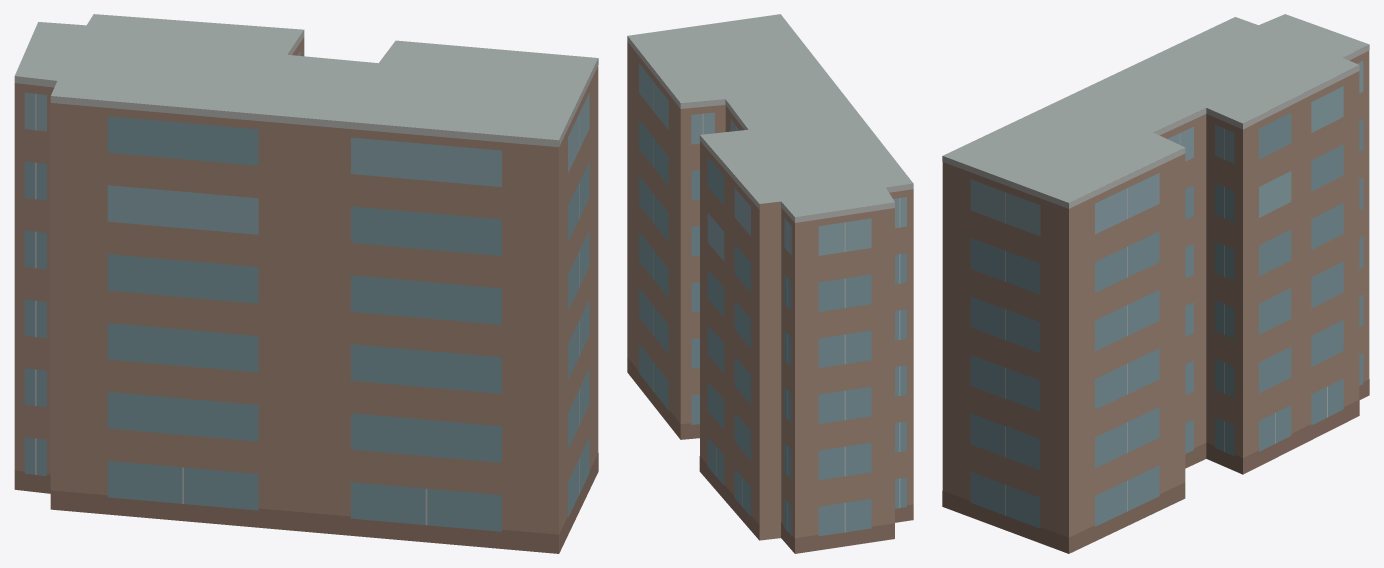
The model's file is survey-upis-32583676.glb.
3 renders of one model, left to right at view 1: azimuth 30°, elevation 25°; view 2: azimuth 150°, elevation 25°; view 3: azimuth 270°, elevation 25°, orthographic. The views are drawn at different scales.
Visible parts, largest first — view 1: survey-upis-32583676.tmp; view 2: survey-upis-32583676.tmp; view 3: survey-upis-32583676.tmp.
Part boxes in pixels (left/top/right/bottom): survey-upis-32583676.tmp: left=14, top=14, right=598, bottom=553; survey-upis-32583676.tmp: left=627, top=14, right=913, bottom=553; survey-upis-32583676.tmp: left=942, top=14, right=1369, bottom=553.
Bounding box in the file's own units: 16.69 × 14.45 × 15.94.
